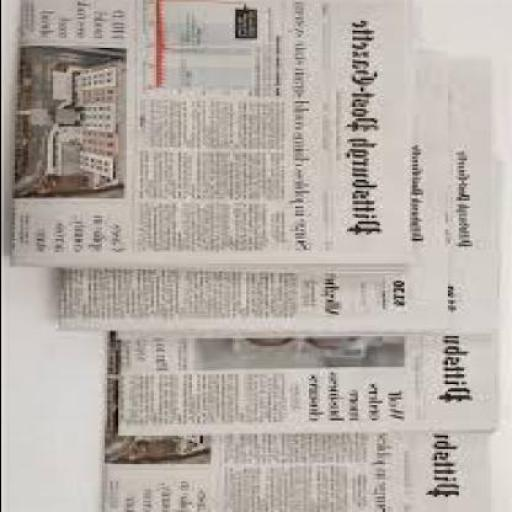paper: (117, 52, 501, 342), (57, 54, 446, 334), (11, 2, 409, 274), (108, 322, 494, 511), (123, 322, 499, 440)
